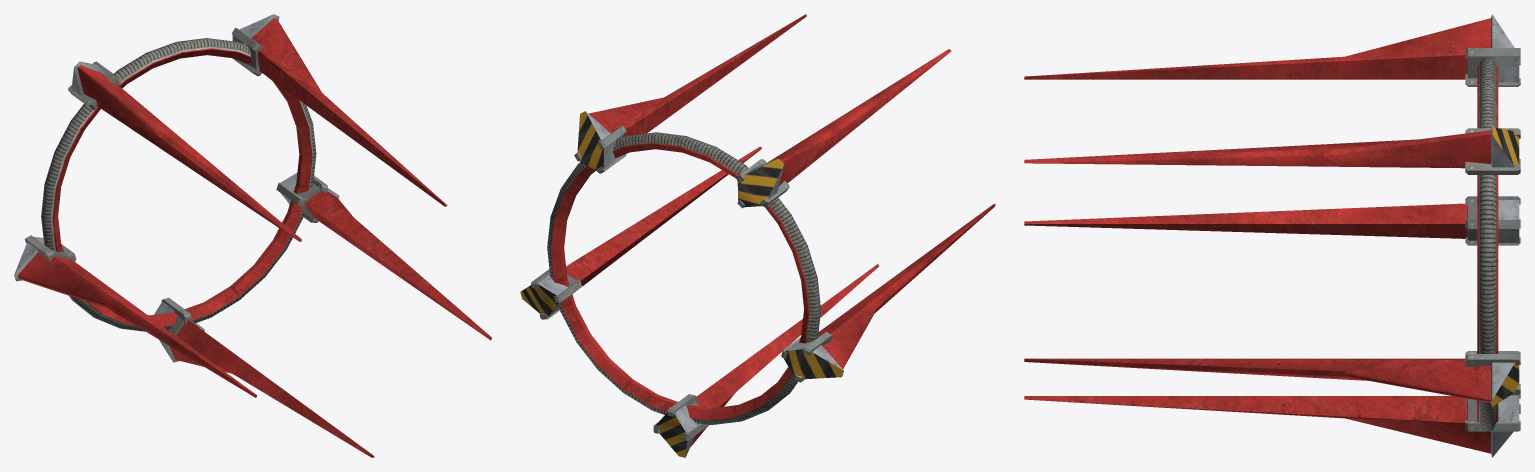
File: Ob_RailGate_RC.fbx
The picture shows the model from 3 angles, left to right: view 1: azimuth 30°, elevation 25°; view 2: azimuth 150°, elevation 25°; view 3: azimuth 270°, elevation 25°; orthographic projection. The views are drawn at different scales.
Visible parts, largest first — view 1: Ob_RailGate_RC; view 2: Ob_RailGate_RC; view 3: Ob_RailGate_RC.
Part boxes in pixels (bbox=[...]): Ob_RailGate_RC: bbox=[14, 14, 491, 457]; Ob_RailGate_RC: bbox=[520, 14, 995, 457]; Ob_RailGate_RC: bbox=[1024, 14, 1520, 457].
Bounding box in the file's own units: 6443 × 6128 × 7149.
